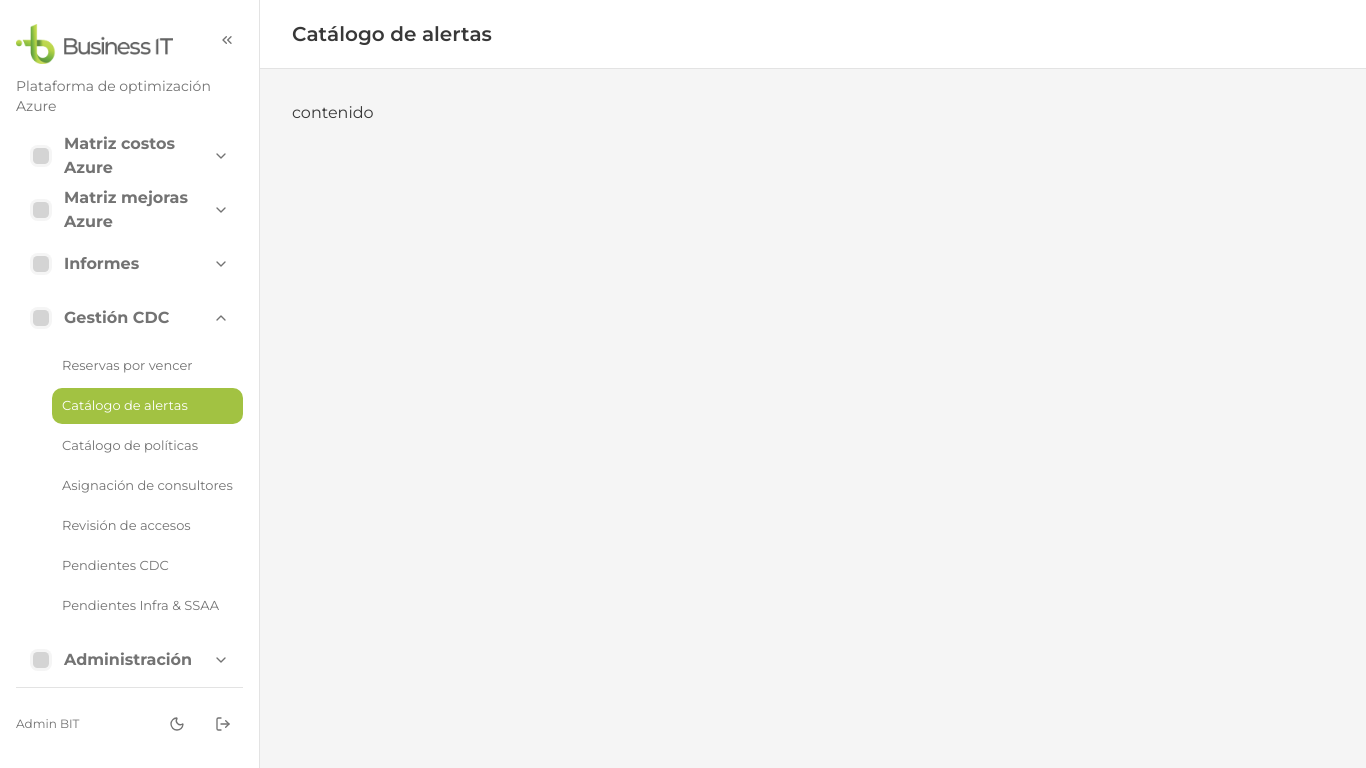
el menú ya no tiene placeholders 'pronto' (todo migrado)
The width and height of the screenshot is (1366, 768).
Note: Se expande "Matriz costos Azure": "Catálogo de servicios" ya es navegable, sin 'pronto'.
Click the button "Matriz costos Azure".
click(130, 156)  # box [16,132,243,180]
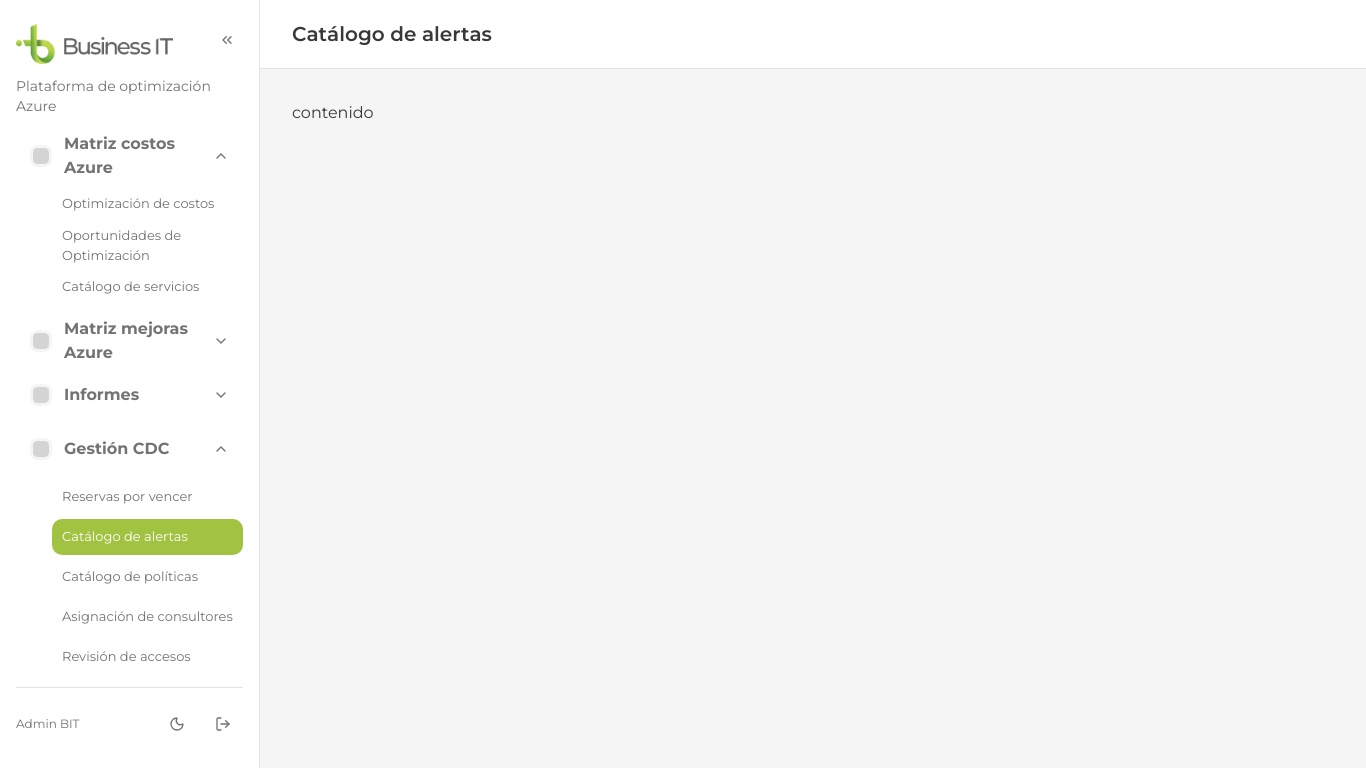
Now the button "Catálogo de servicios" is shown, box [52,269,243,305]
